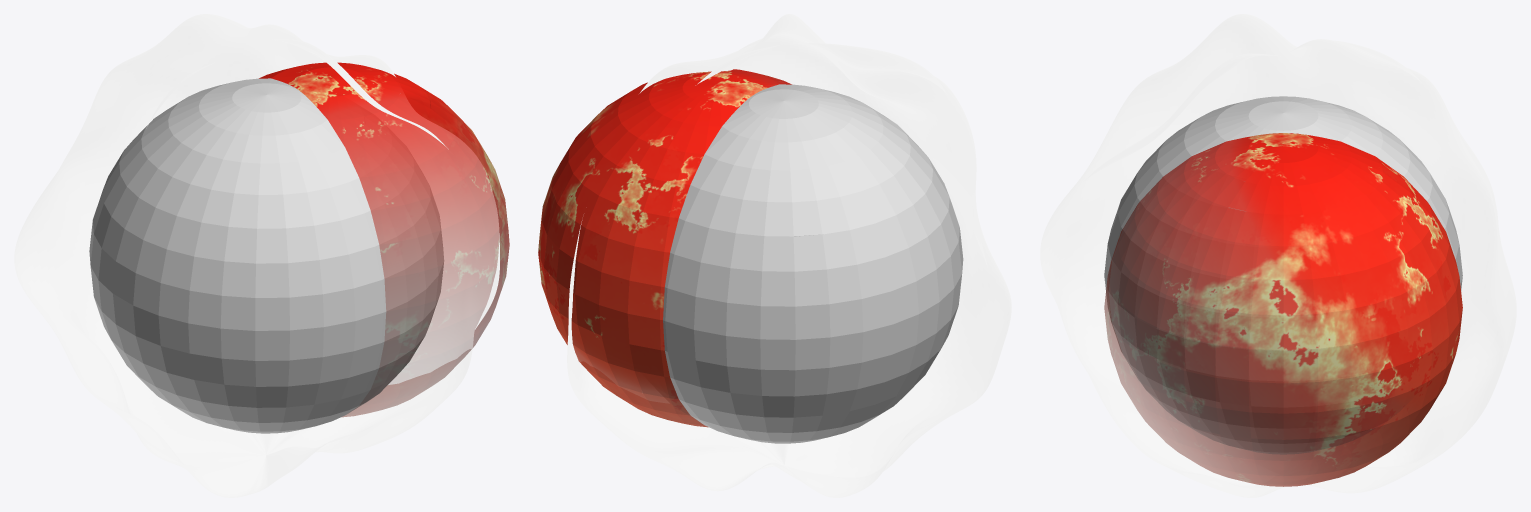
Rendered from sun.glb.
The picture shows the model from 3 angles, left to right: view 1: azimuth 30°, elevation 25°; view 2: azimuth 150°, elevation 25°; view 3: azimuth 270°, elevation 25°; orthographic projection.
Visible parts, largest first — view 1: moon.outline.bake, moon.bake; view 2: moon.outline.bake, moon.bake; view 3: moon.outline.bake, moon.bake.
Part boxes in pixels (x1,y1,x2,y2): moon.outline.bake: (14,14,499,497); moon.bake: (259,62,509,416); moon.outline.bake: (567,14,1011,497); moon.bake: (538,69,791,427); moon.outline.bake: (1040,14,1516,497); moon.bake: (1104,133,1462,486).
Bounding box in the file's own units: 1.56 × 1.58 × 1.53.
3 materials, 2 textured.
